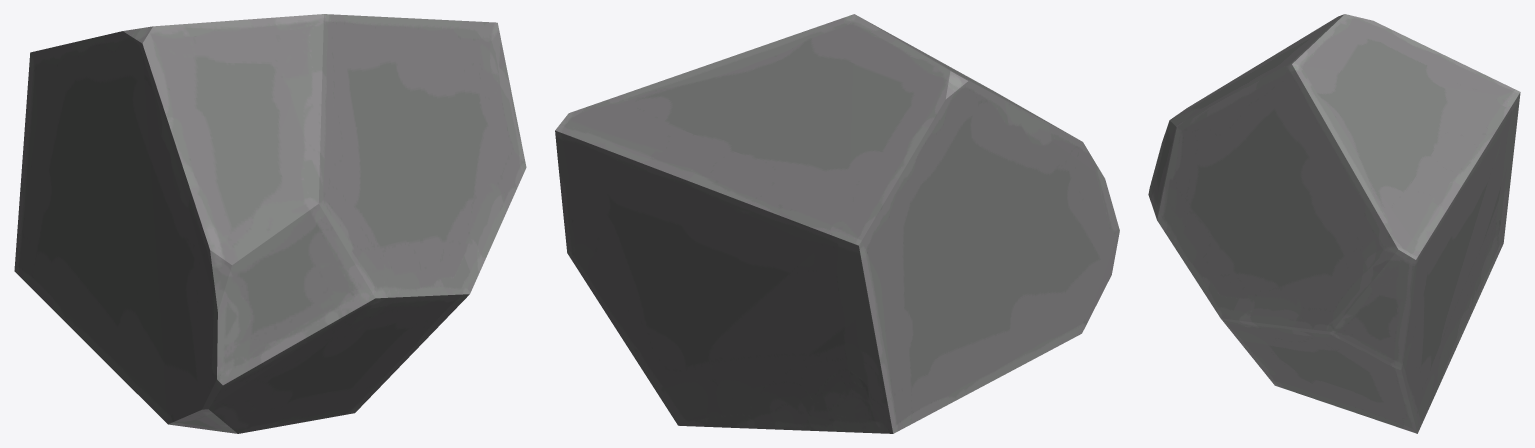
Rendered from Stylized_lowpoly_rock.glb.
The picture shows the model from 3 angles, left to right: view 1: azimuth 30°, elevation 25°; view 2: azimuth 150°, elevation 25°; view 3: azimuth 270°, elevation 25°; orthographic projection. The views are drawn at different scales.
Parts seen in each view (by area): view 1: node_id4_Material_52_0; view 2: node_id4_Material_52_0; view 3: node_id4_Material_52_0.
Boxes of the visible parts, box(x1,y1,x2,y2) form: node_id4_Material_52_0: box(14, 14, 526, 433); node_id4_Material_52_0: box(555, 14, 1119, 433); node_id4_Material_52_0: box(1148, 14, 1520, 433).
Size of the model in its own units: 0.352 by 0.3119 by 0.3217.
1 material, 1 textured.
